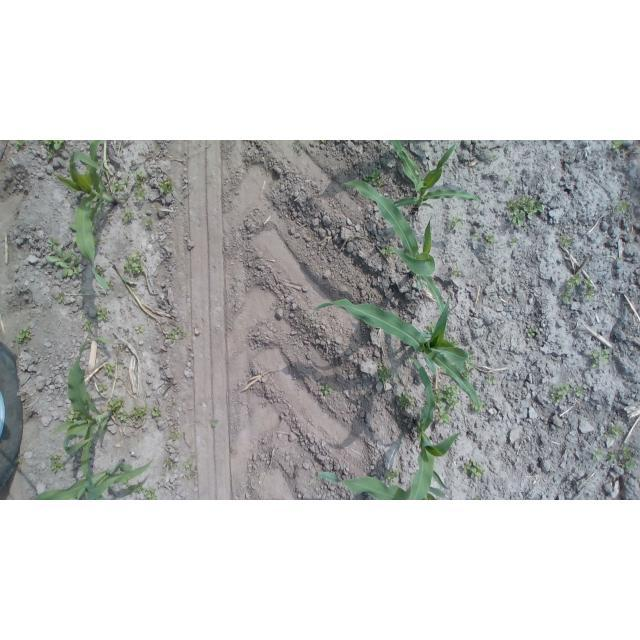Maize: (306, 292, 481, 416), (340, 178, 447, 317), (45, 141, 117, 294), (49, 335, 112, 493), (403, 353, 460, 500), (390, 140, 483, 208), (33, 457, 156, 500), (306, 472, 446, 500)
Weeds: (45, 236, 83, 276), (505, 195, 543, 225), (436, 384, 460, 424), (123, 250, 145, 275), (107, 397, 128, 422), (133, 169, 149, 201), (461, 460, 486, 479), (588, 348, 611, 368), (396, 389, 417, 410), (622, 446, 639, 470), (364, 168, 385, 187), (43, 140, 65, 158), (551, 383, 570, 403), (127, 405, 148, 423), (16, 327, 33, 348), (159, 175, 176, 195), (49, 453, 65, 473), (167, 324, 185, 341), (377, 363, 393, 382), (112, 176, 130, 192), (584, 276, 595, 300), (184, 459, 197, 479), (380, 244, 396, 259), (385, 468, 399, 485), (606, 425, 622, 439), (558, 233, 572, 248), (567, 274, 581, 289), (465, 351, 475, 372), (124, 482, 142, 493), (97, 307, 111, 321), (449, 216, 464, 229), (615, 201, 629, 214), (104, 364, 117, 377), (143, 488, 157, 500), (124, 208, 136, 221), (320, 384, 332, 397), (612, 141, 625, 152), (12, 141, 25, 152), (168, 430, 181, 441), (449, 263, 459, 277), (561, 290, 571, 304), (471, 402, 485, 412), (574, 385, 586, 396), (449, 336, 460, 348), (592, 448, 602, 461), (69, 409, 79, 422), (293, 146, 304, 157), (425, 322, 435, 334), (83, 318, 93, 330), (608, 451, 619, 461), (486, 235, 496, 246), (151, 407, 161, 417), (98, 384, 109, 393), (57, 292, 65, 304), (92, 234, 100, 246), (144, 218, 153, 228), (163, 460, 173, 469), (527, 328, 536, 337), (68, 220, 76, 230), (105, 279, 113, 289), (16, 454, 24, 464), (488, 374, 496, 384), (135, 324, 144, 332), (509, 238, 517, 246), (488, 153, 496, 161), (78, 284, 85, 293), (210, 420, 219, 427), (471, 233, 479, 240), (97, 268, 103, 277), (119, 343, 127, 349), (549, 471, 556, 477), (92, 224, 96, 232), (507, 180, 513, 185), (476, 497, 482, 500), (616, 257, 620, 261), (118, 470, 122, 474), (322, 141, 327, 144)
